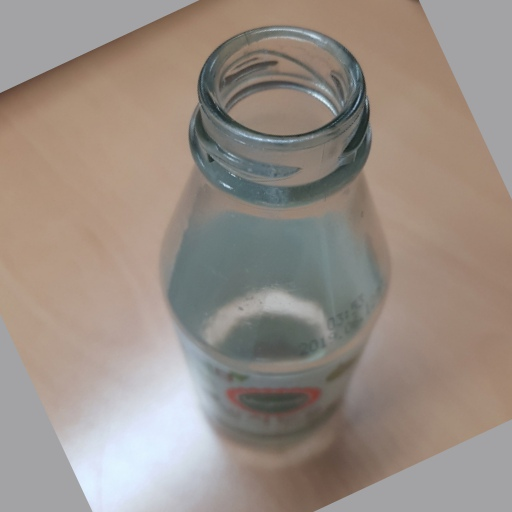Glass_4: (163, 31, 392, 445)
